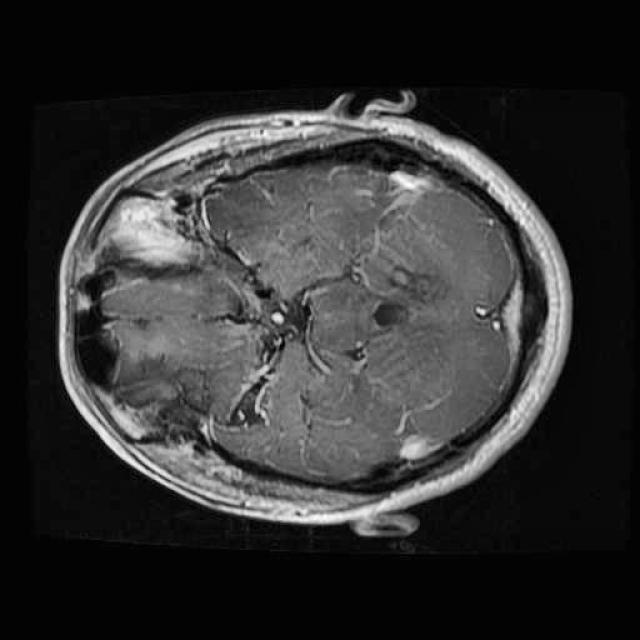Tumor: (101, 337, 227, 461)
